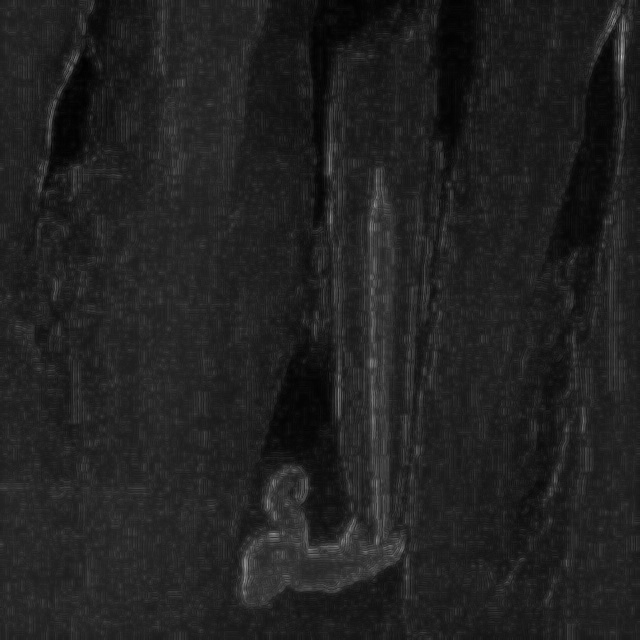Class 1- complete endodontic treatment: (228, 40, 475, 625)
